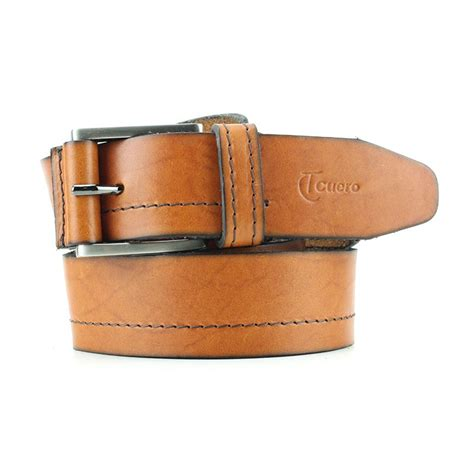cuero: (42, 117, 440, 360)
